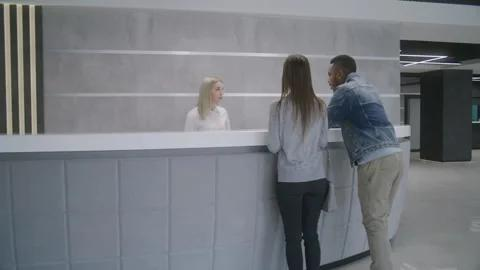jacket: (327, 72, 400, 168)
long sleeve shirt: (266, 94, 328, 184), (183, 104, 232, 132)
trousers: (356, 151, 404, 270), (275, 177, 330, 270)
